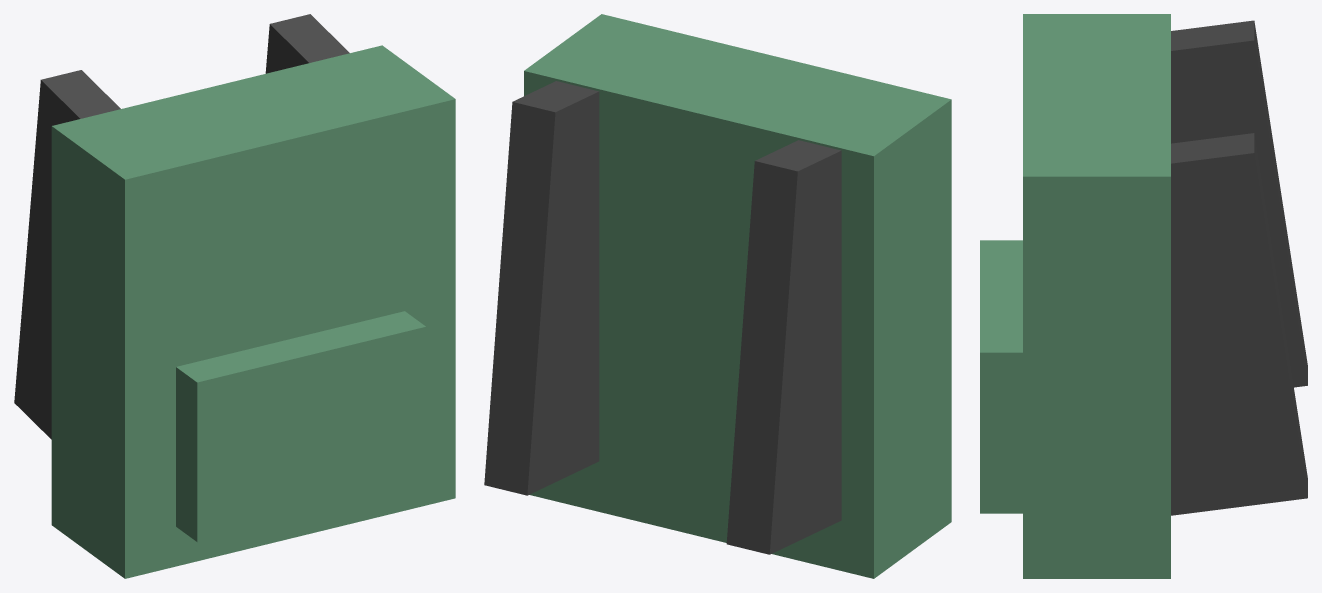
File: Backpack.glb
3 views of the same model, side by side, from view 1: azimuth 30°, elevation 25°; view 2: azimuth 150°, elevation 25°; view 3: azimuth 270°, elevation 25° (orthographic). The views are drawn at different scales.
Parts seen in each view (by area): view 1: Backpack_Body, Backpack_Pocket, Strap_L, Strap_R; view 2: Backpack_Body, Strap_R, Strap_L; view 3: Backpack_Body, Strap_R, Strap_L, Backpack_Pocket.
Part boxes in pixels (x1,y1,x2,y2): Backpack_Body: [51, 45, 455, 578]; Backpack_Pocket: [176, 311, 425, 542]; Strap_L: [14, 70, 120, 439]; Strap_R: [265, 14, 349, 73]; Backpack_Body: [524, 14, 951, 578]; Strap_R: [484, 81, 599, 495]; Strap_L: [726, 140, 841, 554]; Backpack_Body: [1023, 14, 1170, 578]; Strap_R: [1171, 133, 1307, 515]; Strap_L: [1171, 20, 1307, 387]; Backpack_Pocket: [980, 240, 1022, 513].
Bounding box in the file's own units: 1.3 × 1.53 × 1.11.
